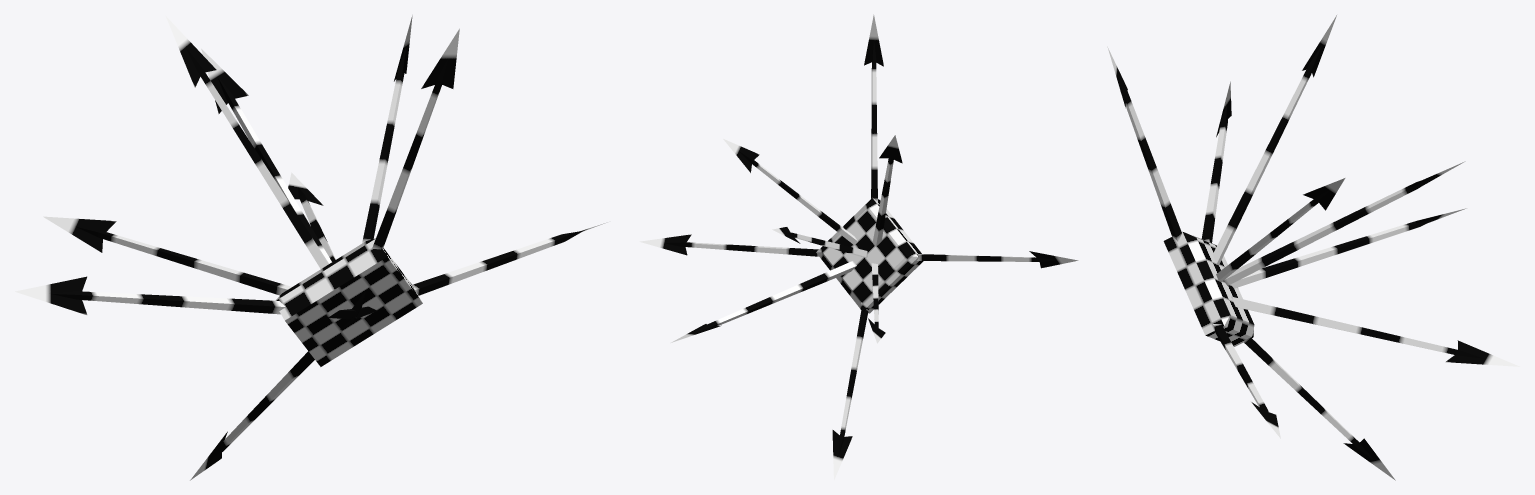
Rendered from initqi24.dae.
3 renders of one model, left to right at view 1: azimuth 30°, elevation 25°; view 2: azimuth 150°, elevation 25°; view 3: azimuth 270°, elevation 25°, orthographic. The views are drawn at different scales.
Parts seen in each view (by area): view 1: item; view 2: item; view 3: item.
Part boxes in pixels (x1=…): item: x1=15, y1=15, x2=607, y2=480; item: x1=639, y1=14, x2=1078, y2=480; item: x1=1107, y1=15, x2=1519, y2=480.
Size of the model in its own units: 1.58 by 1.03 by 1.32.
Materials: 1 (1 with a texture image).
